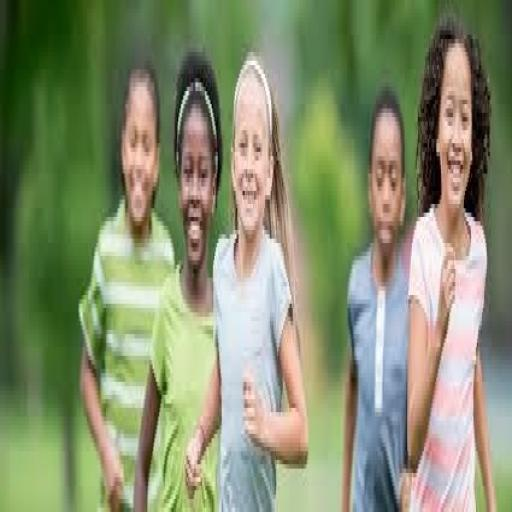running: (183, 52, 311, 508), (404, 13, 500, 508), (77, 56, 177, 508), (130, 48, 225, 508), (338, 82, 414, 508)
